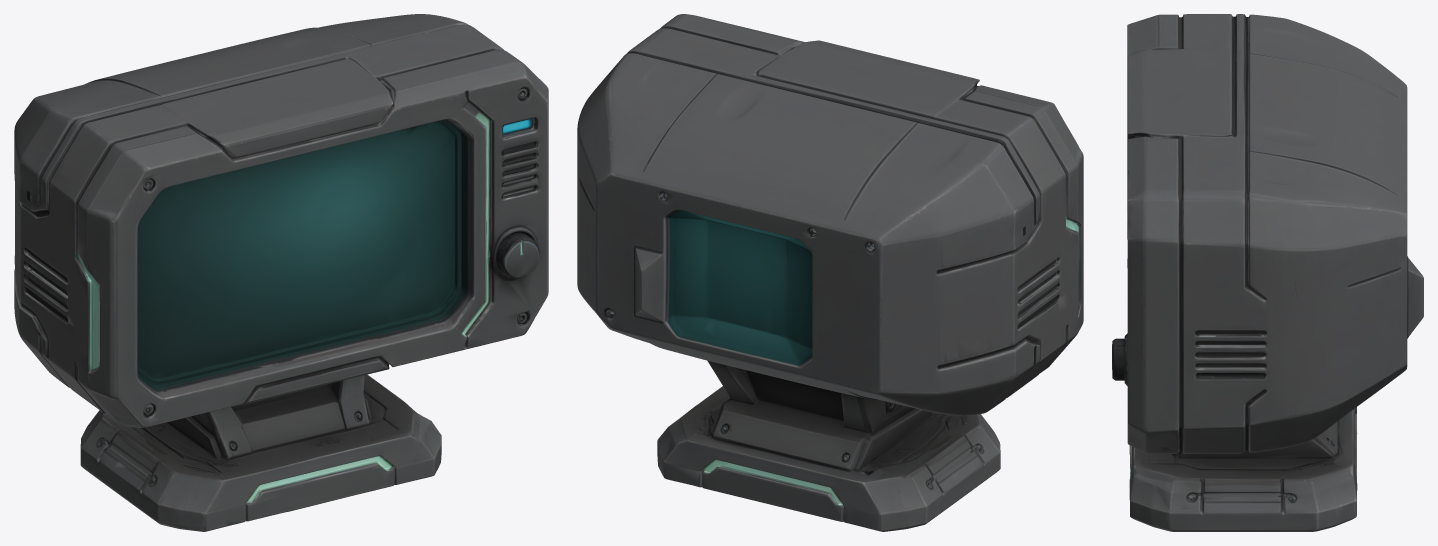
Rendered from SM_A01_Monitor.glb.
3 views of the same model, side by side, from view 1: azimuth 30°, elevation 25°; view 2: azimuth 150°, elevation 25°; view 3: azimuth 270°, elevation 25° (orthographic). The views are drawn at different scales.
Parts seen in each view (by area): view 1: node_0; view 2: node_0; view 3: node_0.
Part boxes in pixels (box(x1,y1,x2,y2)): node_0: box(14, 14, 548, 531); node_0: box(577, 14, 1083, 531); node_0: box(1112, 14, 1423, 531).
Size of the model in its own units: 0.9257 by 0.7568 by 0.5772.
Materials: 1 (1 with a texture image).
